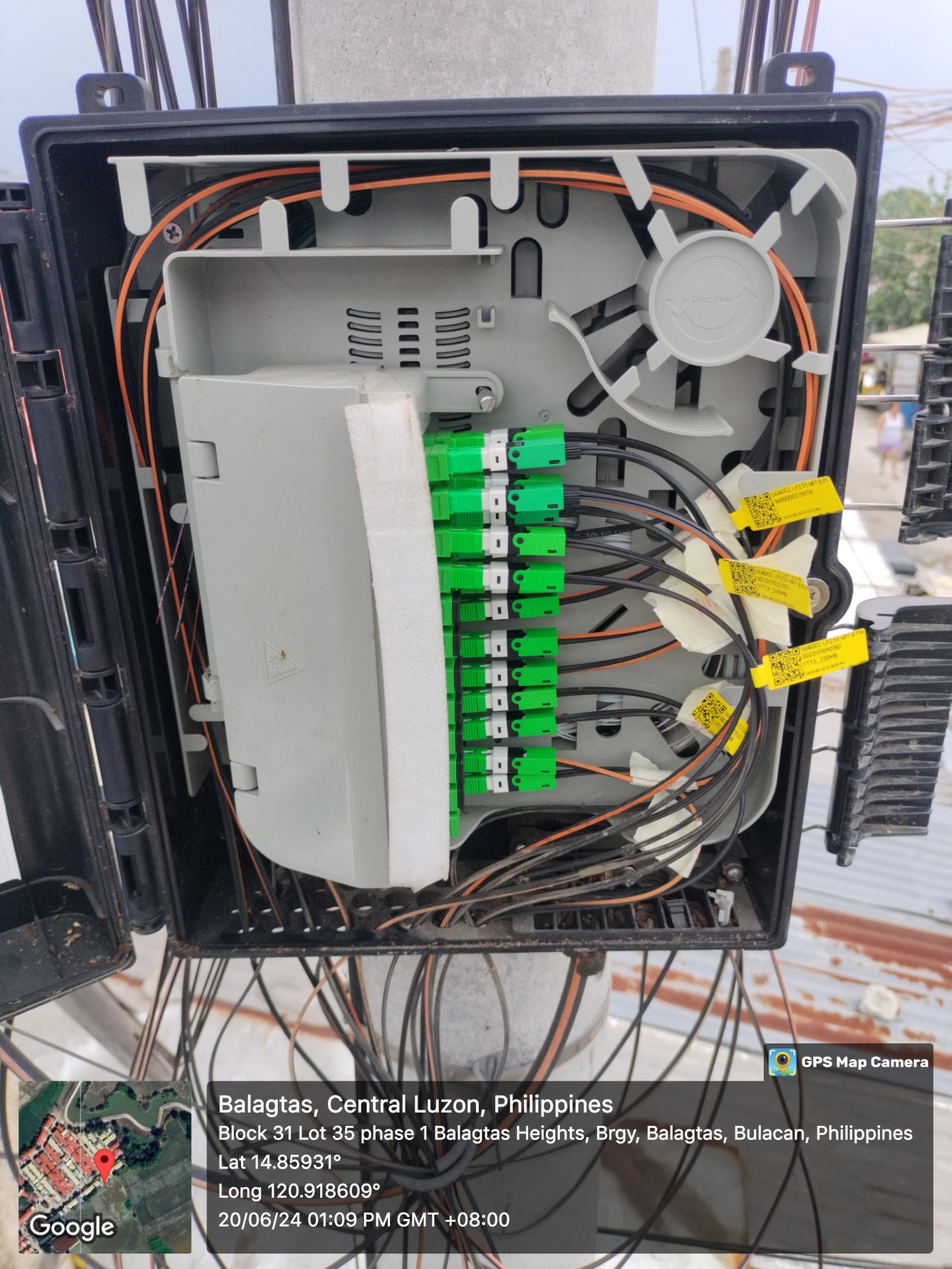no dust cap: (455, 810, 461, 834)
occupied: (447, 439, 585, 478), (449, 479, 586, 515), (452, 422, 580, 458), (449, 561, 583, 594), (452, 526, 580, 558), (450, 501, 580, 531), (452, 531, 569, 562), (451, 475, 580, 503), (448, 566, 568, 595), (461, 592, 565, 622), (463, 629, 561, 659), (466, 711, 559, 742), (462, 661, 563, 687), (464, 686, 561, 713), (465, 746, 558, 774), (467, 769, 562, 795)
vacant: (451, 600, 459, 626), (454, 668, 462, 691), (453, 634, 461, 656), (455, 732, 463, 754), (454, 702, 462, 723), (457, 790, 465, 809), (456, 761, 462, 782)
